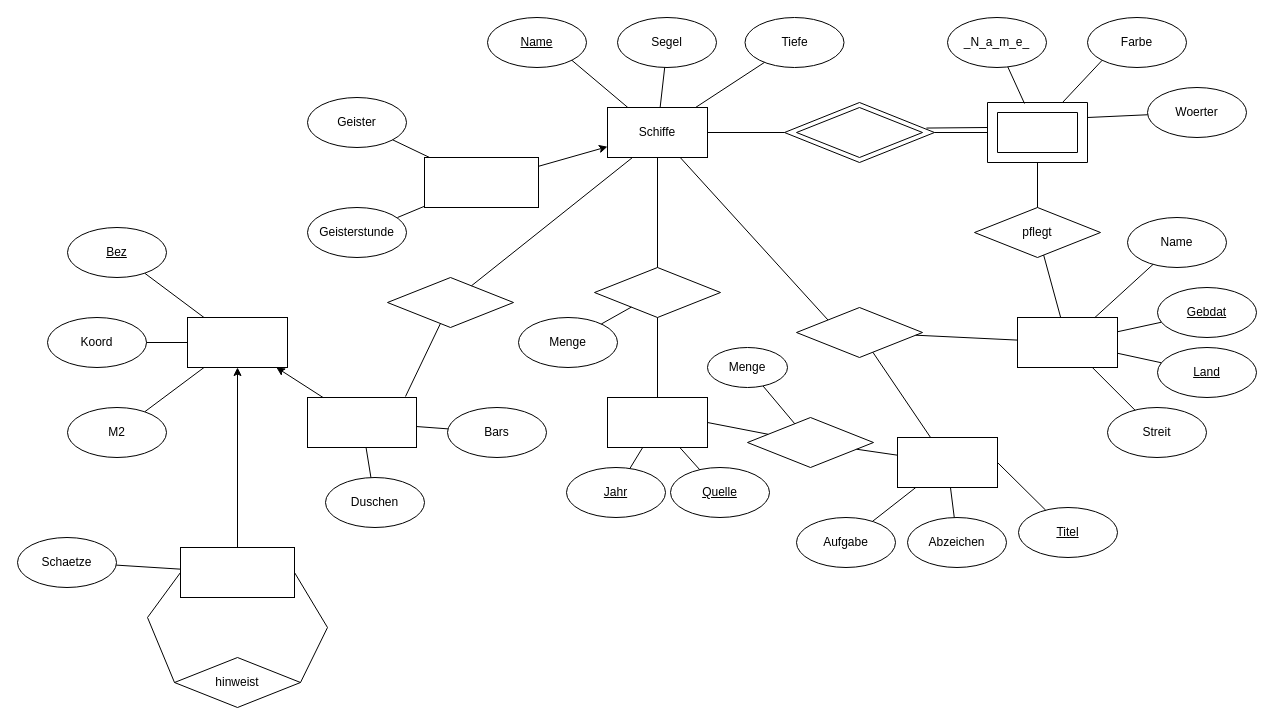
Image size: 1274x725. Some labels were removed from this diagram. The shapes that lost their labels are listed below. From the top down, each one's centre as x and y in pixels, then its label:
At (859,132): "wohnt".
At (1037,132): "Papageien".
At (481,182): "Geisterschiffe".
At (450,302): "stationiert".
At (657,292): "mitführt".
At (237,342): "Inseln".
At (859,332): "einnimmt".
At (1067,342): "PiratInnen".
At (361,422): "Basisinseln".
At (657,422): "Rumsorten".
At (810,442): "zusteht".
At (947,462): "Positionen".
At (237,572): "Schatzinseln".
